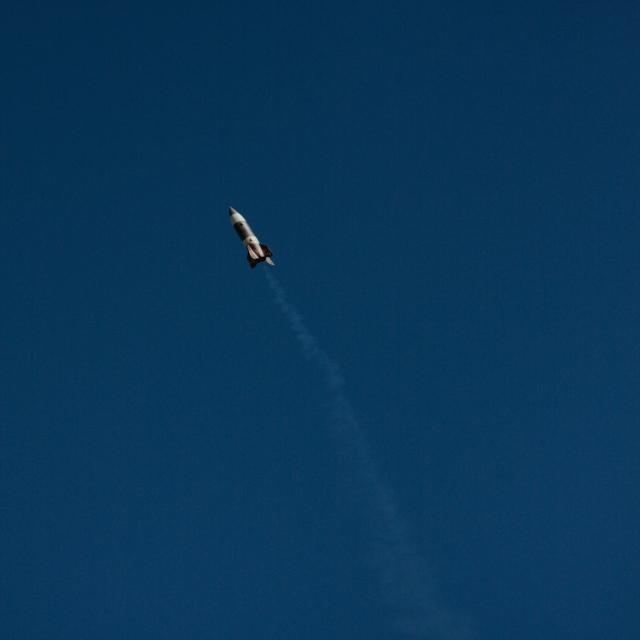Rocket: (227, 204, 277, 270)
